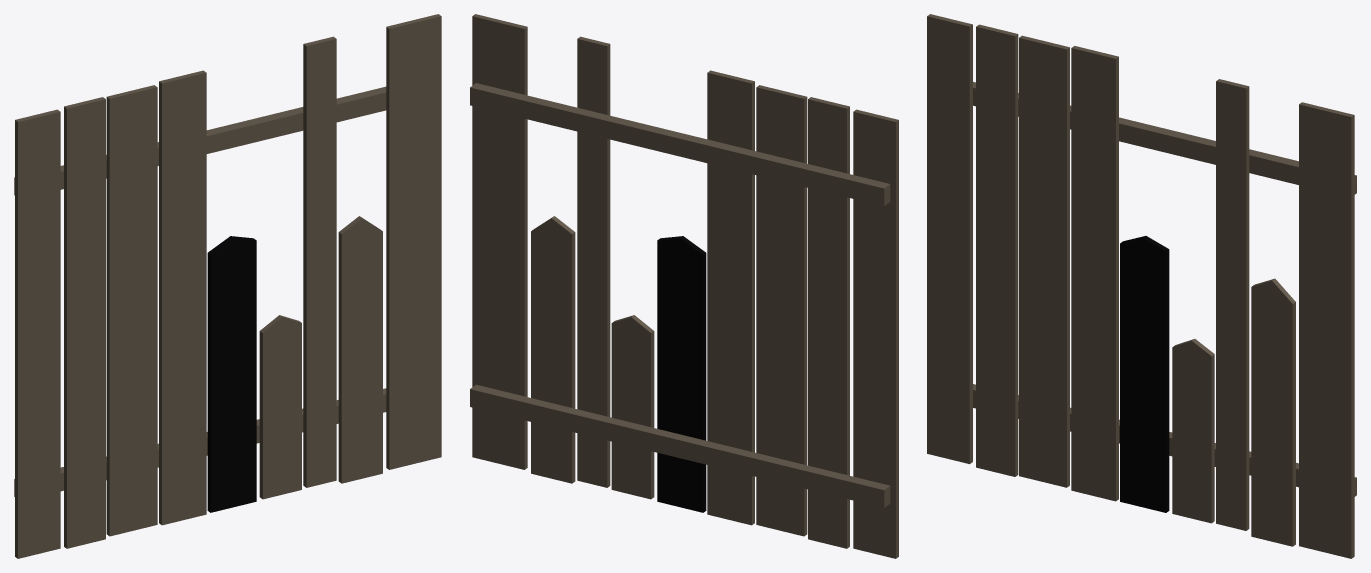
File: bretter_2x2_kaputt.glb
The picture shows the model from 3 angles, left to right: view 1: azimuth 30°, elevation 25°; view 2: azimuth 150°, elevation 25°; view 3: azimuth 330°, elevation 25°; orthographic projection.
Parts seen in each view (by area): view 1: bretter_2x2_kaputt; view 2: bretter_2x2_kaputt; view 3: bretter_2x2_kaputt.
Boxes of the visible parts, bbox=[...] form: bretter_2x2_kaputt: bbox=[14, 14, 441, 558]; bretter_2x2_kaputt: bbox=[470, 14, 898, 558]; bretter_2x2_kaputt: bbox=[927, 14, 1356, 558].
Size of the model in its own units: 1.98 by 2 by 0.075.
